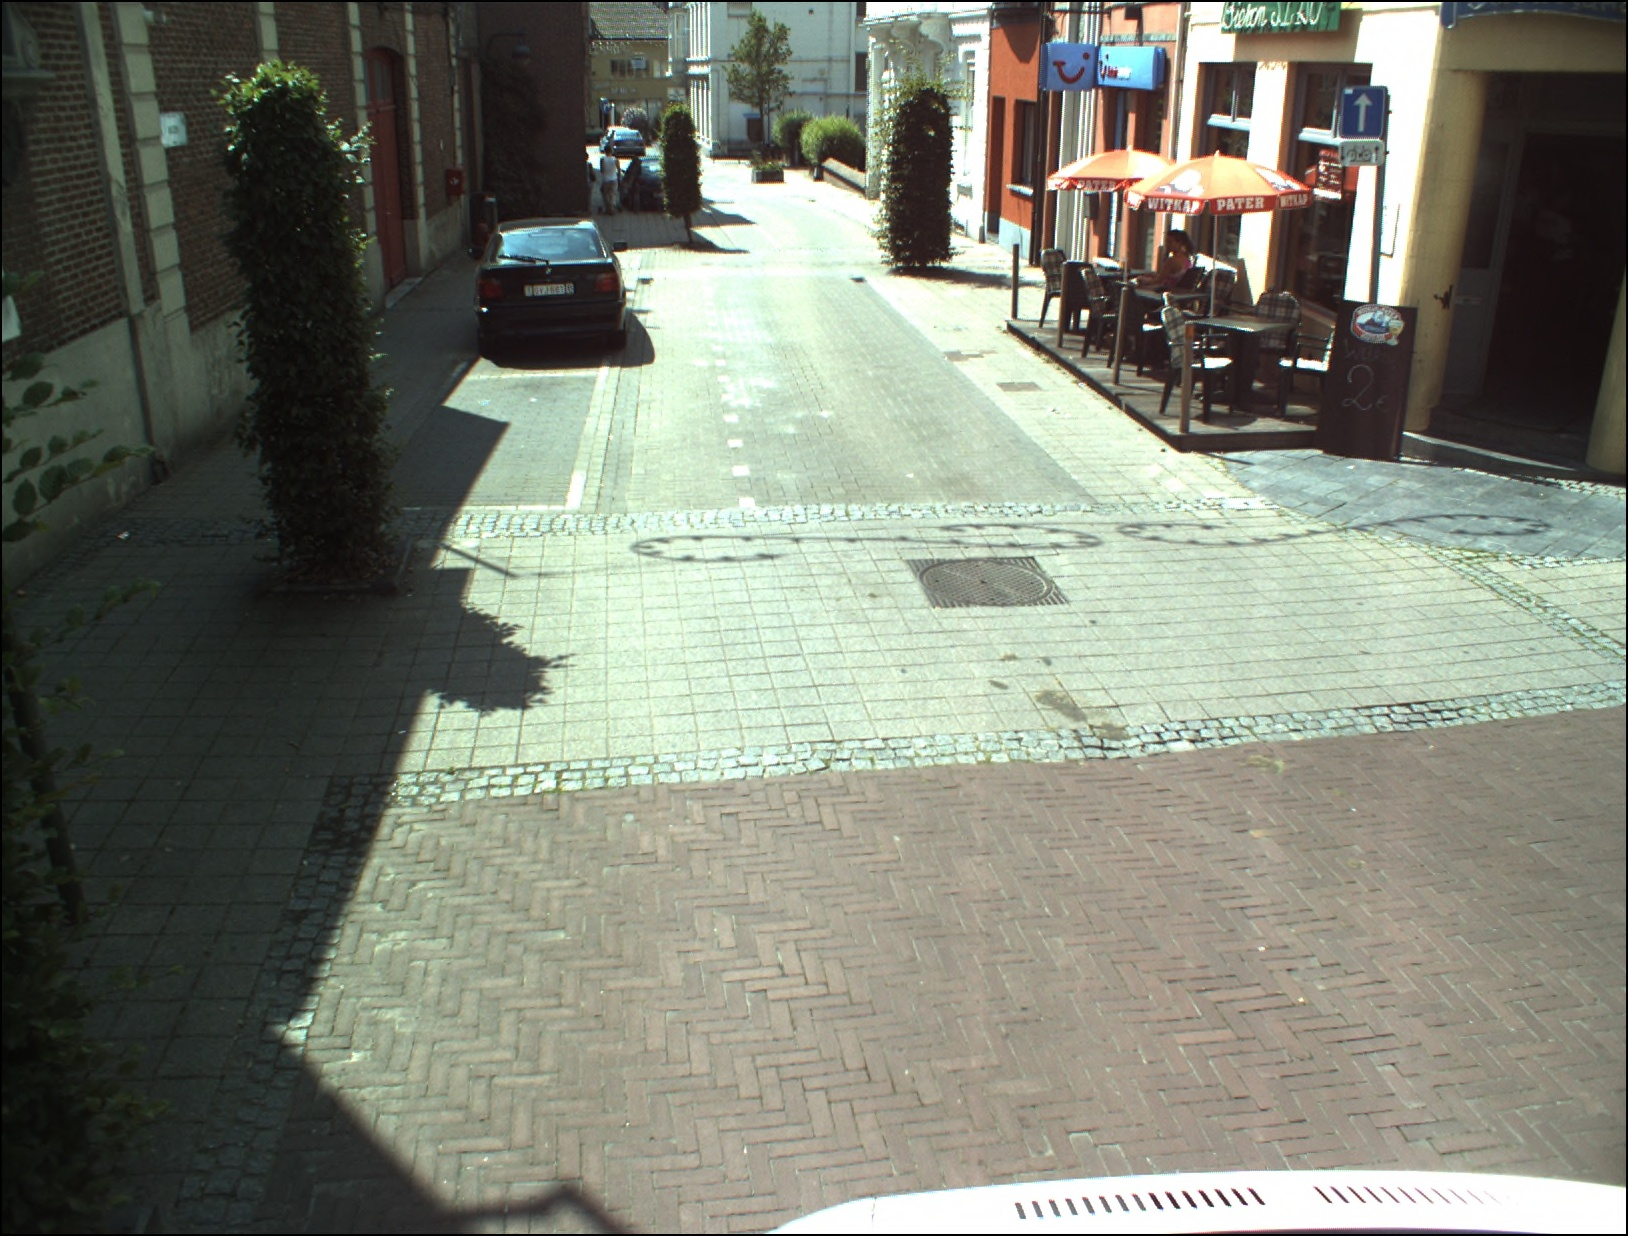oneway: (1340, 87, 1387, 142)
